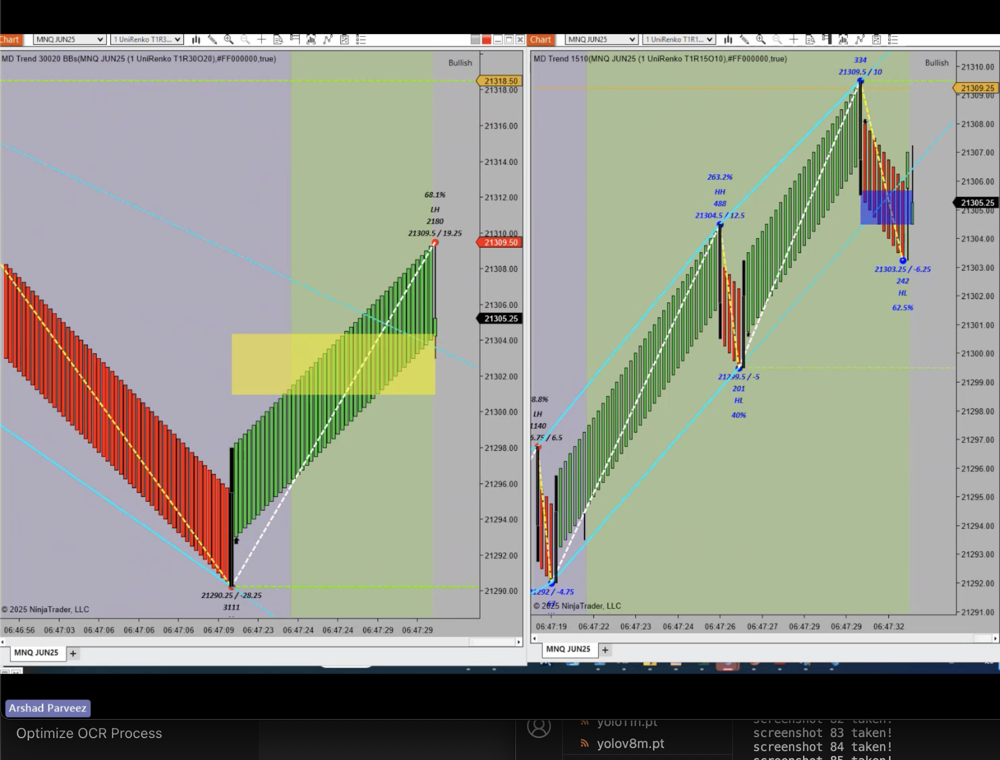HH: (708, 183, 735, 200)
HL: (730, 390, 750, 410), (895, 284, 914, 303)
LH: (529, 407, 550, 423), (424, 203, 446, 217)
